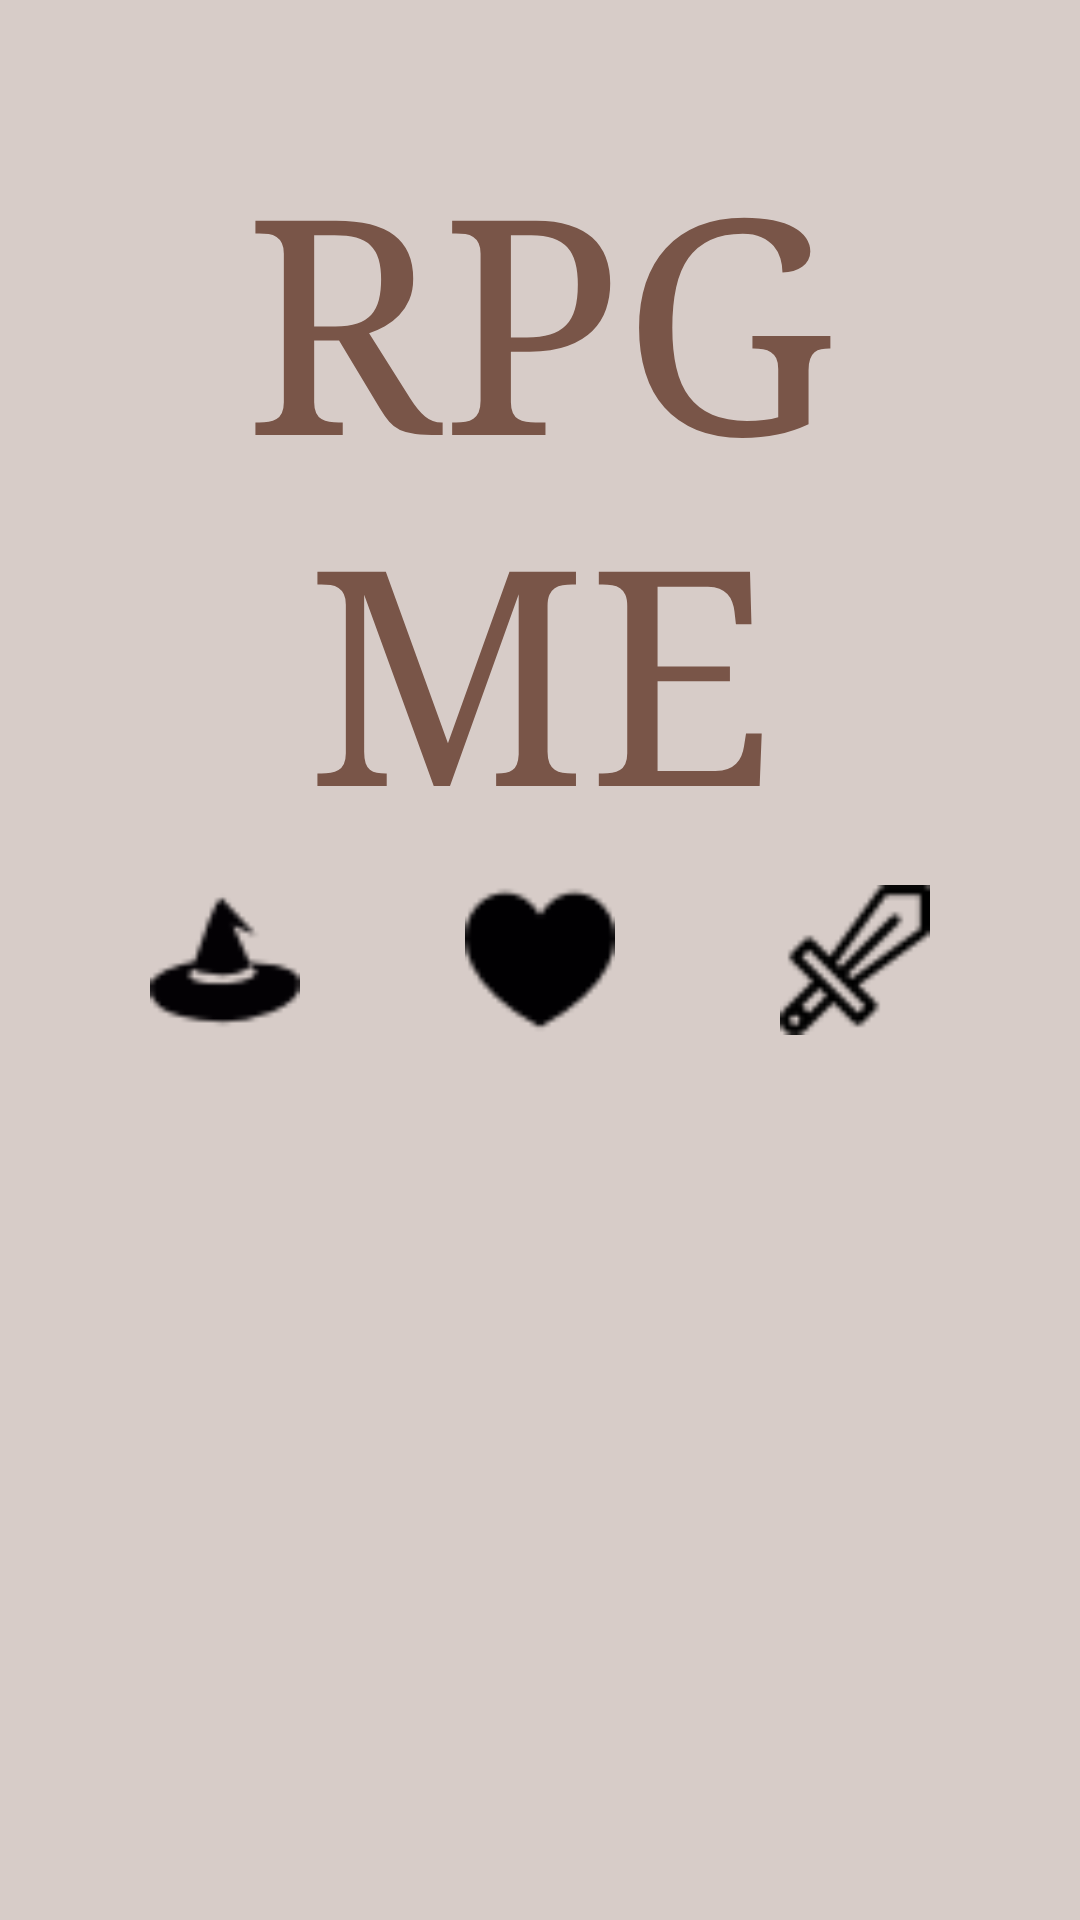

Where to tap for icons on this 1080px×1920px app screen, as [x,y]:
skill attack: [855,960]
skill magic: [225,961]
